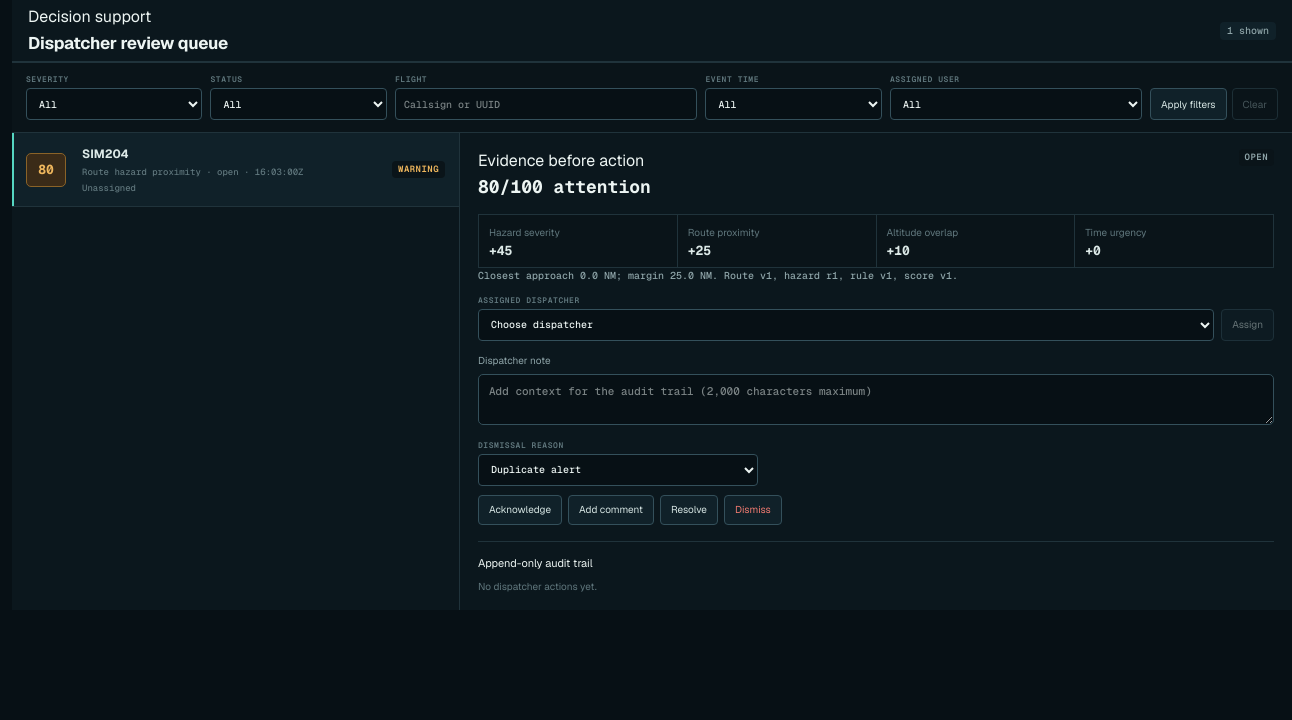
dispatcher alert queue › shows explainable ranking and appends a human acknowledgement
Expected: the heading "80/100 attention" is shown, [478, 176, 651, 198]
Expected: the text "Hazard severity" is shown, [489, 226, 560, 239]
What coordinates should you click on to do the following:
click the button "Acknowledge"
I would click on:
 (520, 510)
Its box is [478, 495, 562, 525].
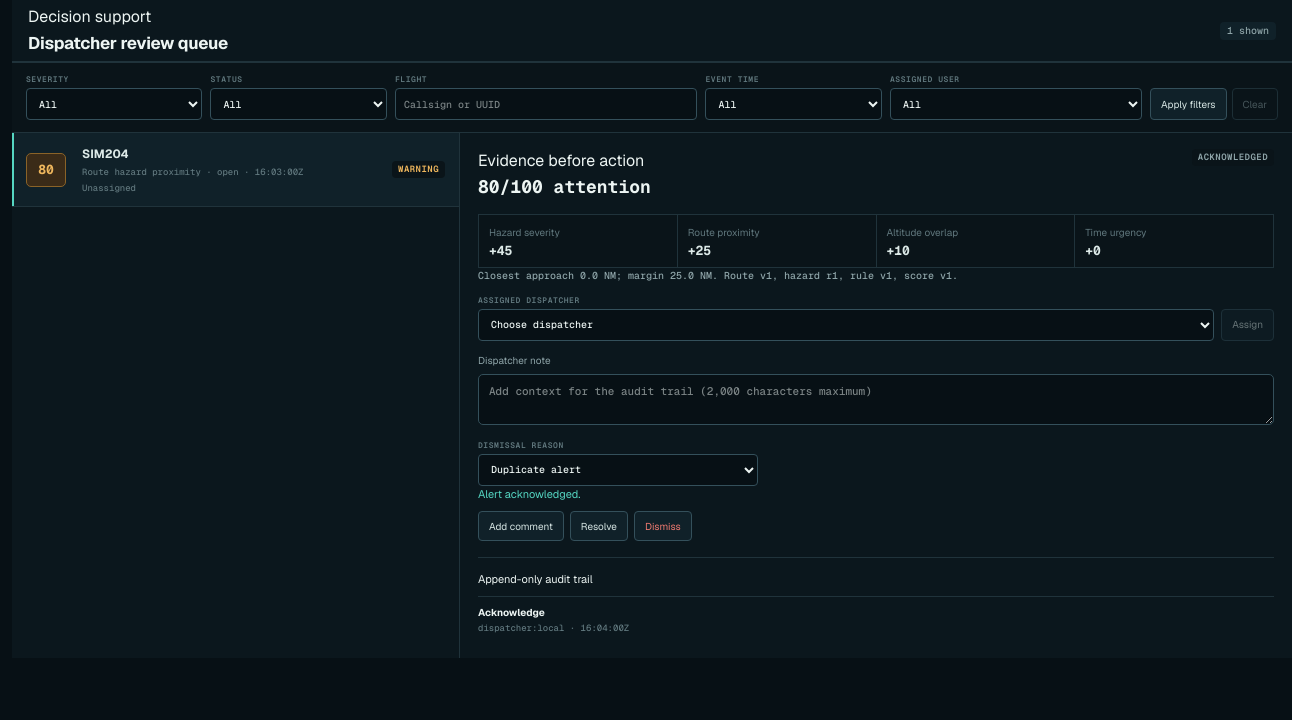
Expected: the text "Acknowledge" is shown, [478, 606, 545, 619]
